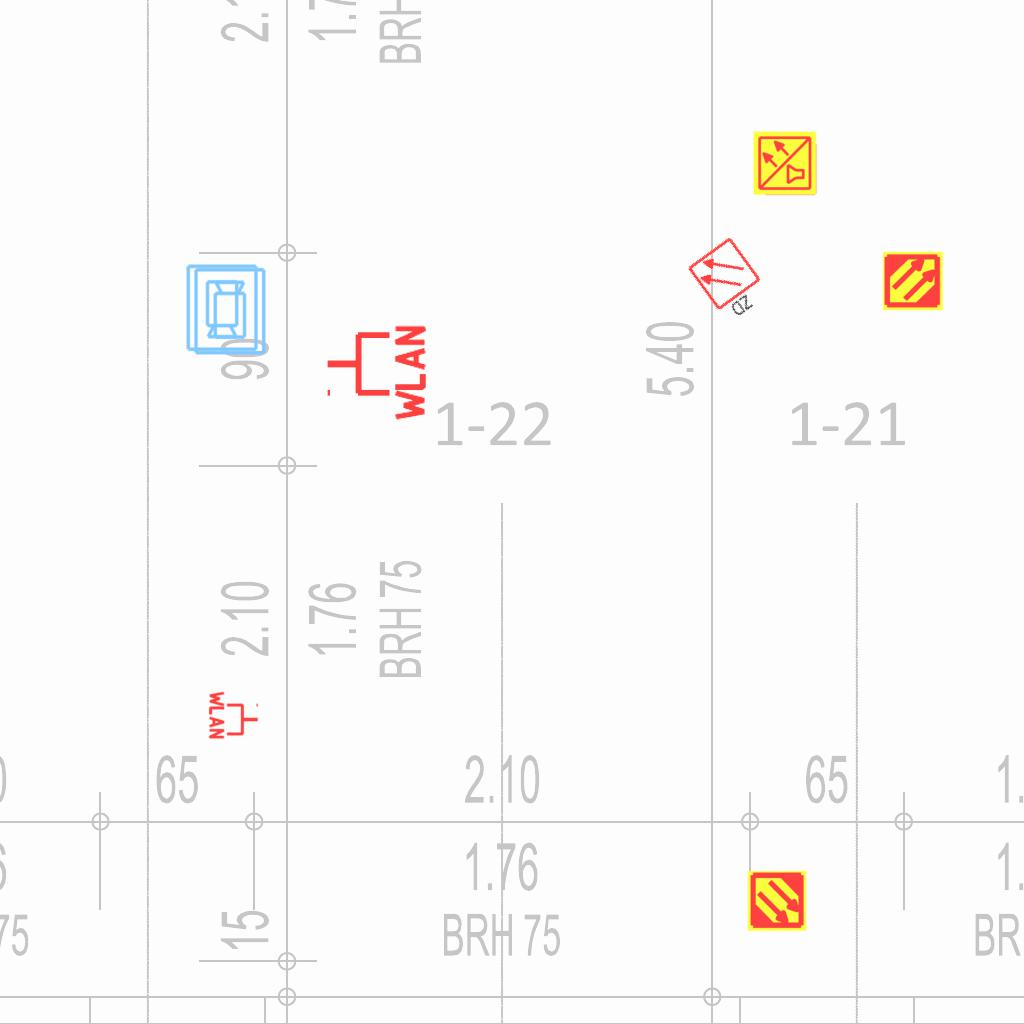ASR_Ansaugrauchmelder: (746, 870, 808, 932), (882, 250, 944, 312)
KFO_Kamera_mit_Festobjektiv: (183, 262, 260, 353), (192, 266, 269, 357)
OKW_Multisensormelder_(Kombination_optischer_Rauch-Kahlenmonoxid_Waerme-Melder): (752, 130, 818, 196)
WLAN: (323, 321, 428, 425), (208, 689, 260, 741)
ZD_Melder_in_Zwischendecke_mit_Revisionsoeffnung_mind_40_x_40_cm: (685, 234, 776, 328)
